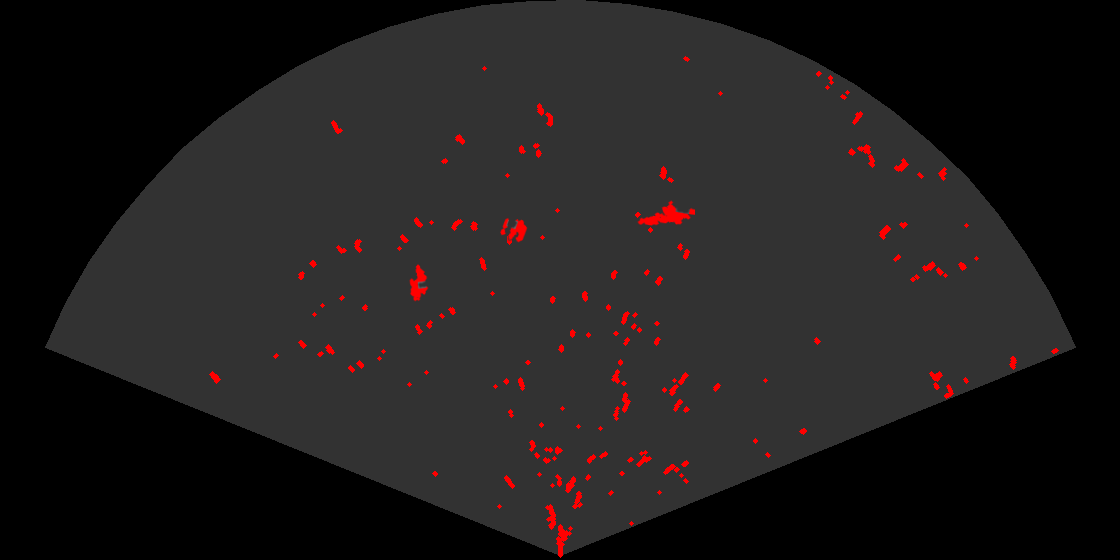AUV: (408, 263, 430, 303)
ball: (499, 216, 529, 244)
frogman: (636, 199, 695, 227)
